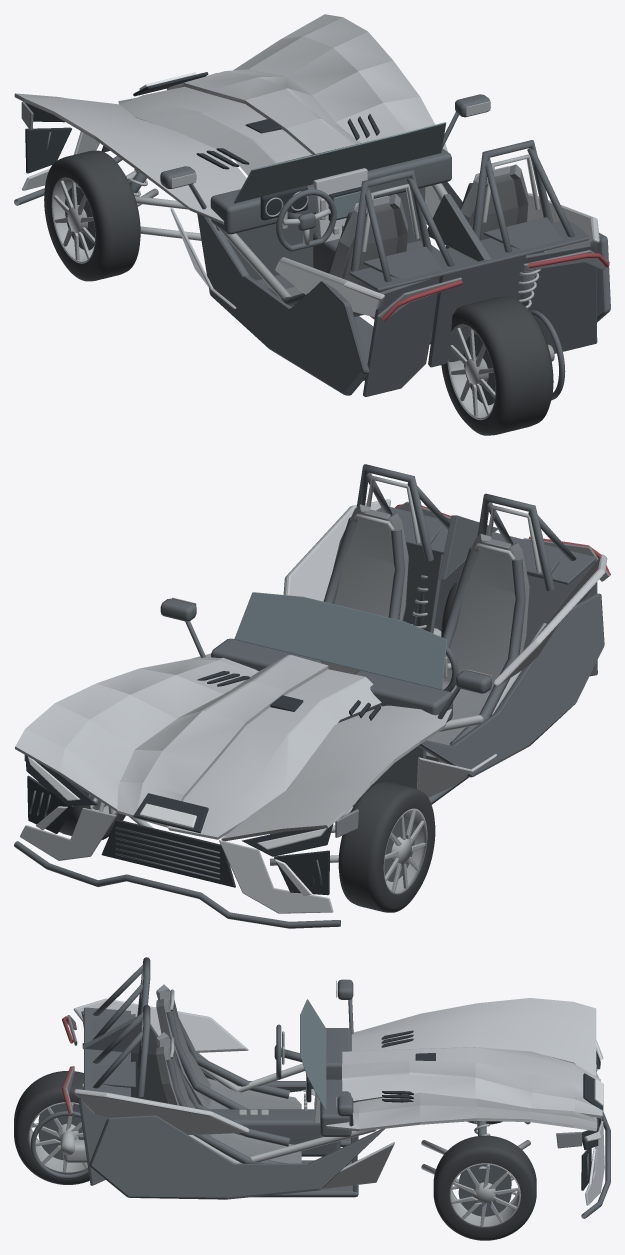
File: slingshot.glb
3 renders of one model, top to bottom at view 1: azimuth 30°, elevation 25°; view 2: azimuth 150°, elevation 25°; view 3: azimuth 270°, elevation 25°, orthographic. The views are drawn at different scales.
Parts seen in each view (by area): view 1: sculpted_front_fender_right, sculpted_sill_left, rear_tire, sculpted_front_fender_left, front_left_tire, hood_central_left, hood_central_right, wind_deflector, rear_bucket_undertray_left, rear_bucket_undertray_right, rear_center_bulkhead, seat_driver (+33 smaller); view 2: sculpted_front_fender_right, hood_central_left, wind_deflector, sculpted_front_fender_left, sculpted_sill_left, hood_central_right, seat_driver, front_left_tire, seat_passenger, center_grille, nose_cheek_left, tail_shoulder_right (+28 smaller); view 3: sculpted_sill_right, sculpted_front_fender_left, hood_central_right, sculpted_front_fender_right, front_right_tire, hood_central_left, tail_shoulder_right, rear_tire, seat_driver, center_tunnel, tail_shoulder_left, seat_passenger (+31 smaller).
Boxes of the visible parts, <box> form: sculpted_front_fender_right: <box>233,14,447,151</box>; sculpted_sill_left: <box>197,213,369,395</box>; rear_tire: <box>441,296,553,435</box>; sculpted_front_fender_left: <box>14,93,246,224</box>; front_left_tire: <box>44,150,140,281</box>; hood_central_left: <box>118,86,312,175</box>; hood_central_right: <box>167,69,360,154</box>; wind_deflector: <box>234,122,446,203</box>; rear_bucket_undertray_left: <box>363,276,439,396</box>; rear_bucket_undertray_right: <box>525,244,597,353</box>; rear_center_bulkhead: <box>428,255,525,367</box>; seat_driver: <box>286,194,407,316</box>; sculpted_front_fender_right: <box>15,653,258,813</box>; hood_central_left: <box>168,669,381,839</box>; wind_deflector: <box>234,592,447,689</box>; sculpted_front_fender_left: <box>221,705,451,841</box>; sculpted_sill_left: <box>418,593,604,777</box>; hood_central_right: <box>117,655,328,827</box>; seat_driver: <box>426,534,529,763</box>; front_left_tire: <box>338,781,435,912</box>; seat_passenger: <box>333,504,408,620</box>; center_grille: <box>101,819,235,887</box>; nose_cheek_left: <box>219,840,333,913</box>; tail_shoulder_right: <box>283,499,390,601</box>; sculpted_sill_right: <box>89,1115,384,1199</box>; sculpted_front_fender_left: <box>351,998,596,1076</box>; hood_central_right: <box>342,1060,602,1118</box>; sculpted_front_fender_right: <box>326,1092,597,1131</box>; front_right_tire: <box>433,1135,536,1240</box>; hood_central_left: <box>342,1047,600,1087</box>; tail_shoulder_right: <box>74,1089,249,1134</box>; rear_tire: <box>14,1071,89,1184</box>; seat_driver: <box>156,984,301,1109</box>; center_tunnel: <box>210,1109,340,1156</box>; tail_shoulder_left: <box>73,998,248,1052</box>; seat_passenger: <box>156,1032,301,1163</box>.
Size of the model in its own units: 2 by 1.31 by 3.82.
